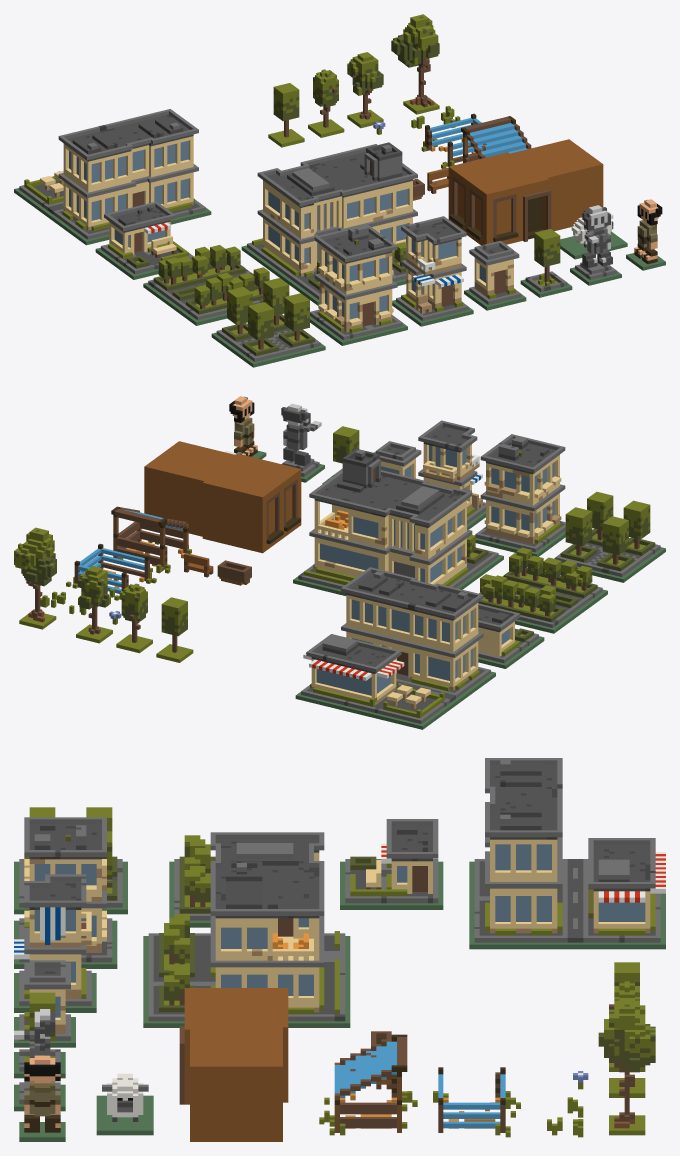
Rendered from Town.obj.
3 renders of one model, top to bottom at view 1: azimuth 30°, elevation 25°; view 2: azimuth 150°, elevation 25°; view 3: azimuth 270°, elevation 25°, orthographic. The views are drawn at different scales.
Bounding box in the file's own units: 126 × 31 × 126.
Materials: 1 (1 with a texture image).
